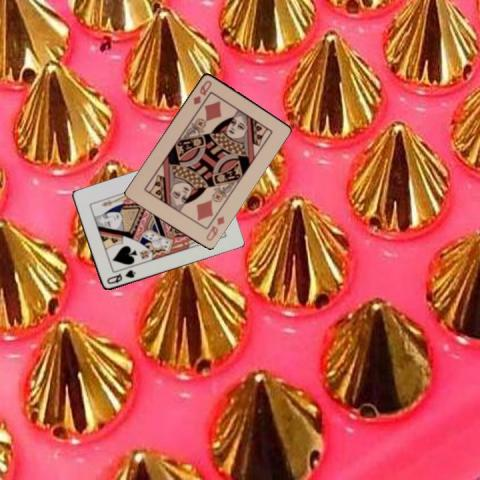Qd: (190, 77, 213, 106), (203, 213, 226, 242)
Qs: (103, 267, 137, 286)
